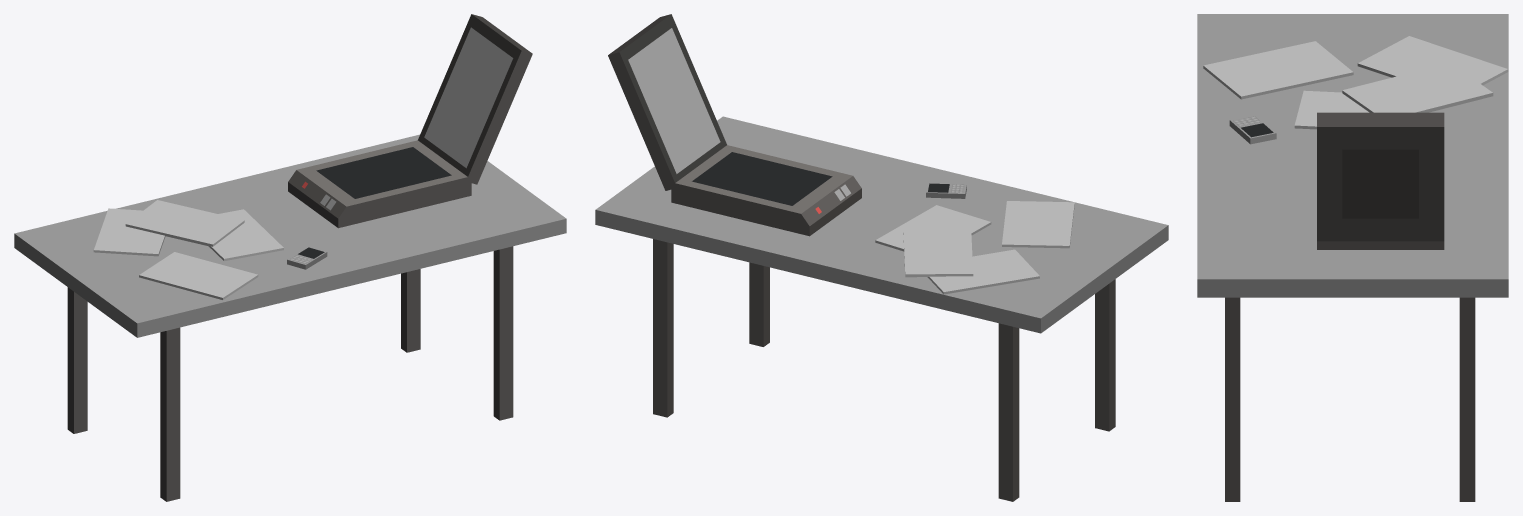
File: SO_TablePreset_03.fbx
3 views of the same model, side by side, from view 1: azimuth 30°, elevation 25°; view 2: azimuth 150°, elevation 25°; view 3: azimuth 270°, elevation 25° (orthographic). The views are drawn at different scales.
Parts seen in each view (by area): view 1: SO_TablePreset_03; view 2: SO_TablePreset_03; view 3: SO_TablePreset_03.
Boxes of the visible parts, <box> form: SO_TablePreset_03: <box>14,14,566,501</box>; SO_TablePreset_03: <box>595,14,1168,501</box>; SO_TablePreset_03: <box>1197,14,1508,501</box>.
Bounding box in the file's own units: 3.73 × 2.65 × 1.79.
